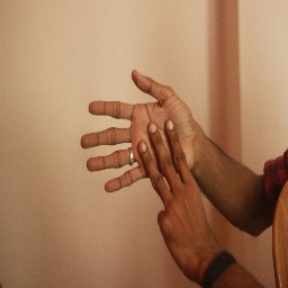M: (80, 68, 206, 219)
